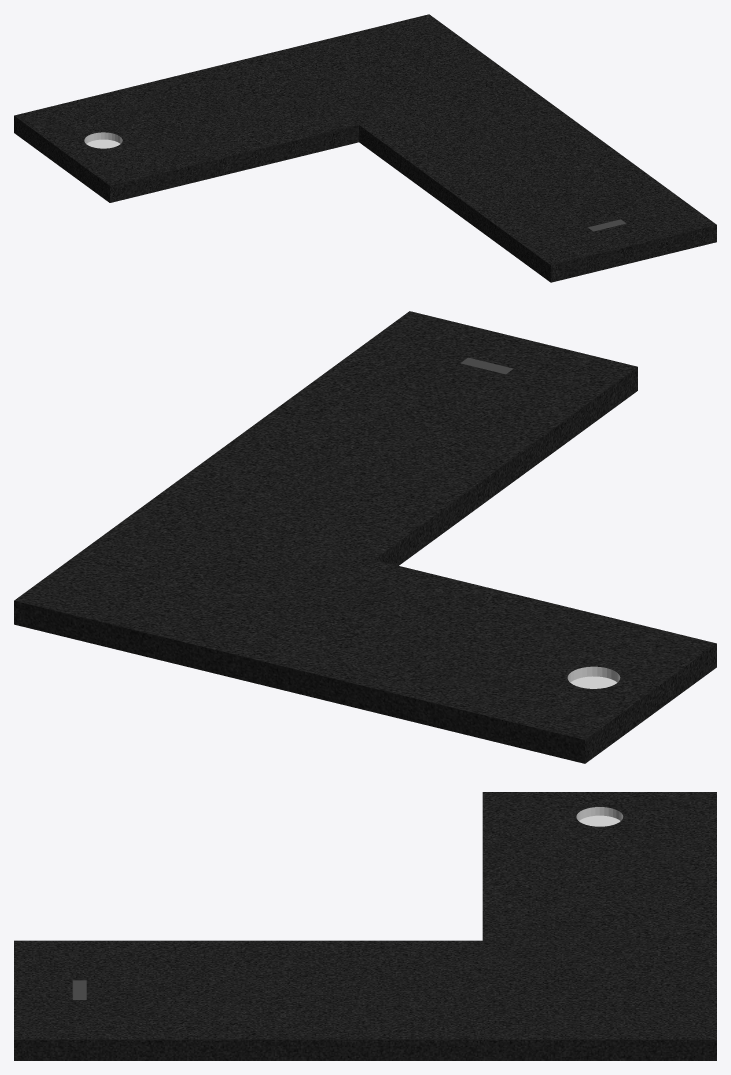
Rendered from Hole 1 Base.glb.
3 renders of one model, top to bottom at view 1: azimuth 30°, elevation 25°; view 2: azimuth 150°, elevation 25°; view 3: azimuth 270°, elevation 25°, orthographic. The views are drawn at different scales.
Visible parts, largest first — view 1: Base; view 2: Base; view 3: Base.
Boxes of the visible parts, left/top/right/bottom form: Base: left=14, top=14, right=716, bottom=282; Base: left=14, top=311, right=716, bottom=763; Base: left=14, top=792, right=716, bottom=1060.
Size of what is drawn, in the model's own units: 5 by 0.201 by 6.
3 materials, 1 textured.
